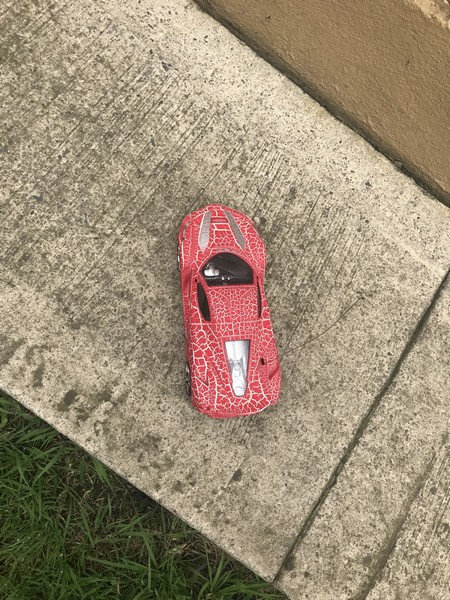RC: (175, 203, 283, 418)
